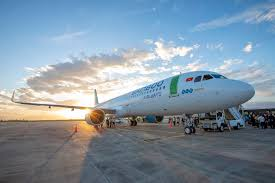maybay_dansu: (10, 73, 257, 134)
